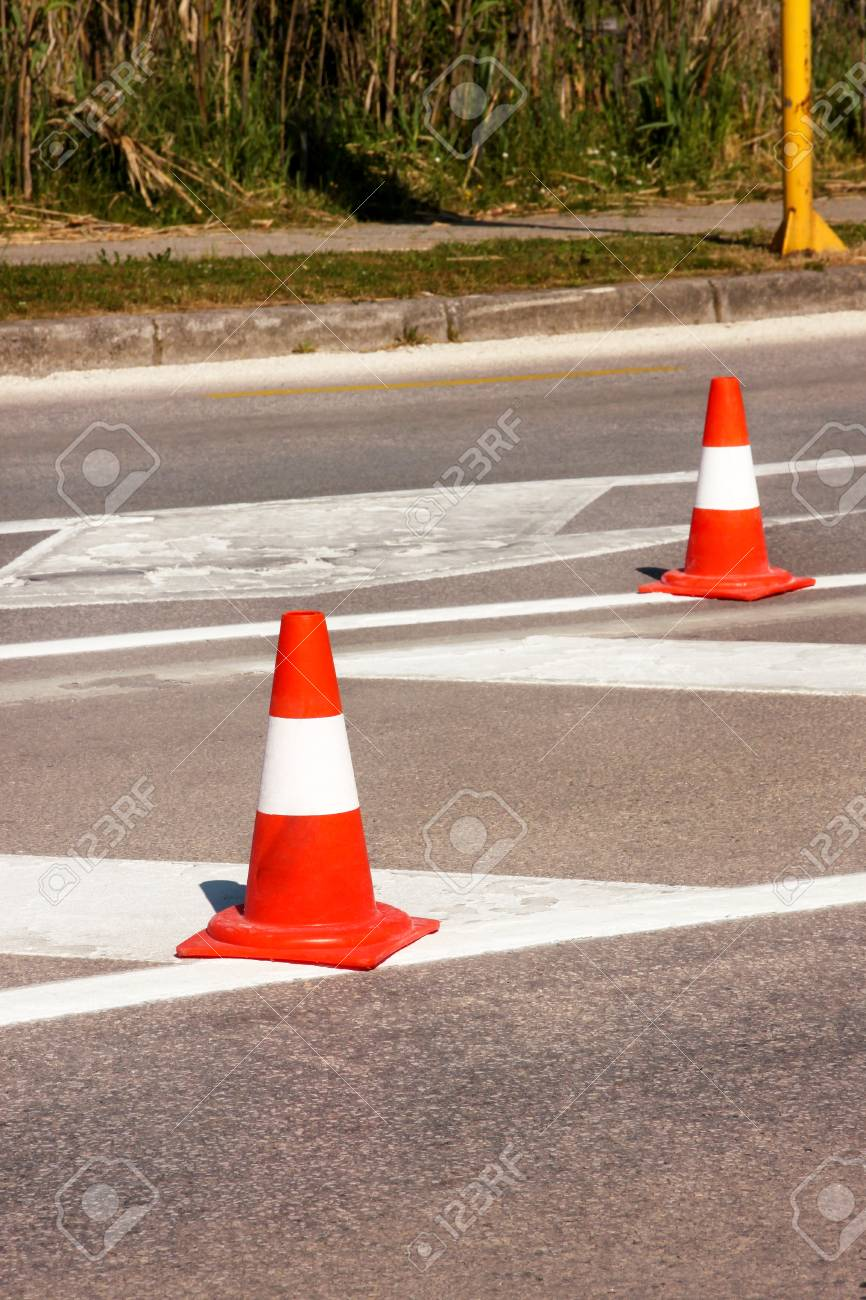cones: (192, 600, 440, 973), (640, 375, 820, 604)
